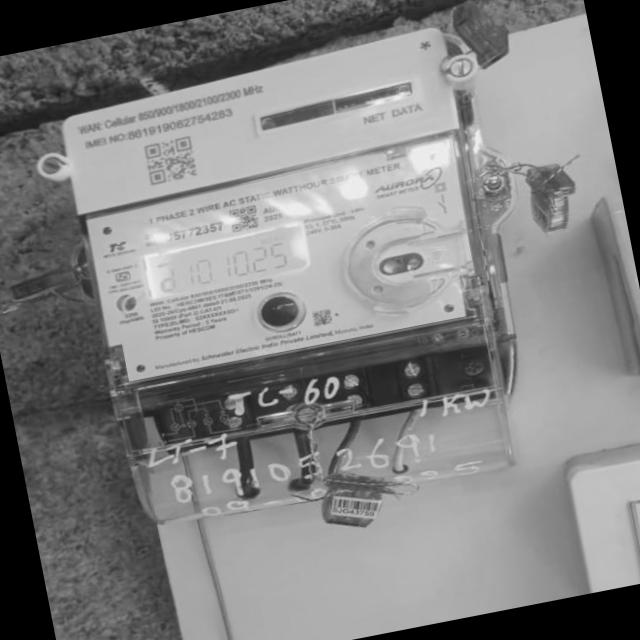meter: (58, 42, 492, 388)
